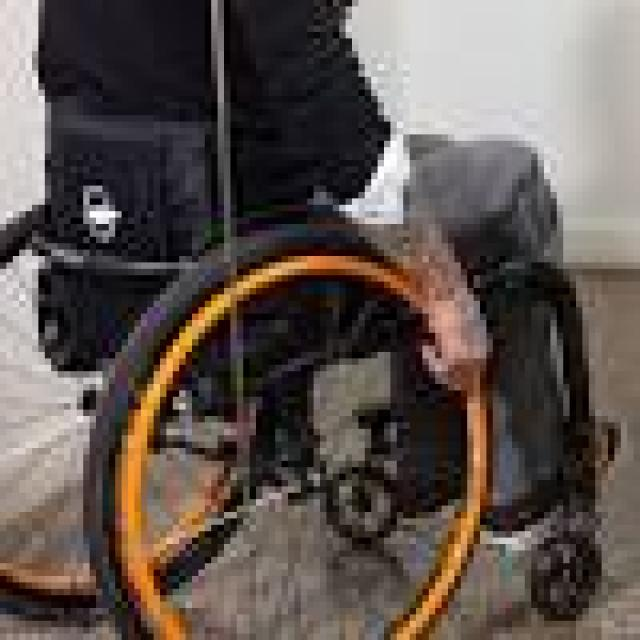wheelchairs: (6, 102, 628, 640)
